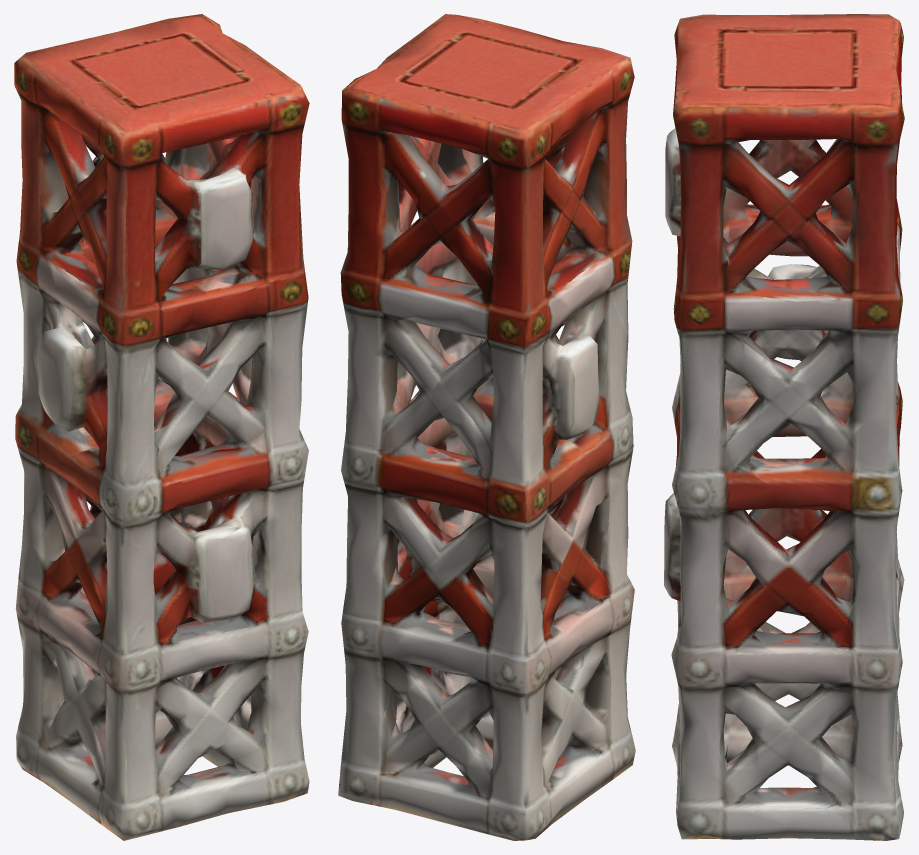
Rendered from 남산_상부안테나.glb.
The picture shows the model from 3 angles, left to right: view 1: azimuth 30°, elevation 25°; view 2: azimuth 150°, elevation 25°; view 3: azimuth 270°, elevation 25°; orthographic projection. The views are drawn at different scales.
Parts seen in each view (by area): view 1: texture_mapping; view 2: texture_mapping; view 3: texture_mapping.
Part boxes in pixels (x1,y1,x2,y2): texture_mapping: (14, 14, 309, 840); texture_mapping: (338, 14, 635, 840); texture_mapping: (664, 14, 904, 840).
Bounding box in the file's own units: 0.3021 × 1 × 0.2983.
1 material, 1 textured.
